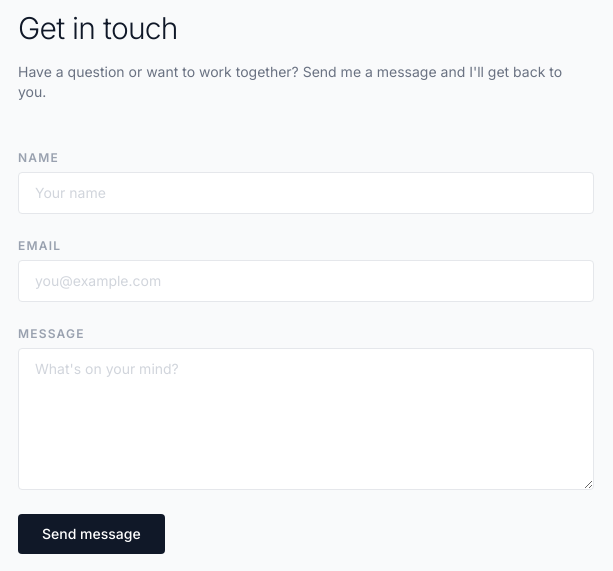
Test: Contact component › should display success confirmation when form is submitted successfully
The image size is (613, 571).
Type "Alice" into the field labelled "Name" at x=306, y=193, box [18,172,594,214]
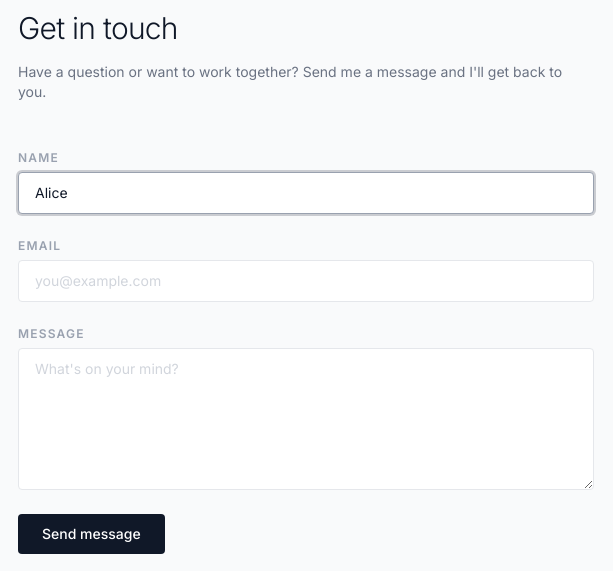
Type "alice@example.com" into the field labelled "Email" at x=306, y=281, box [18,260,594,302]
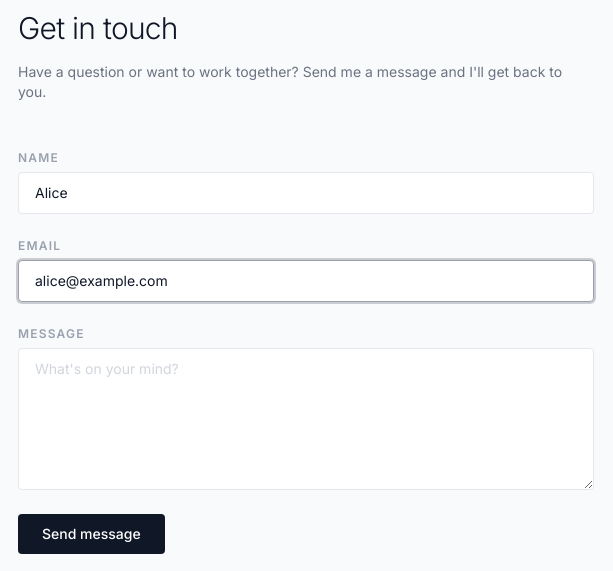
Type "Testing contact submission." into the text box labelled "Message" at x=306, y=419, box [18,348,594,490]
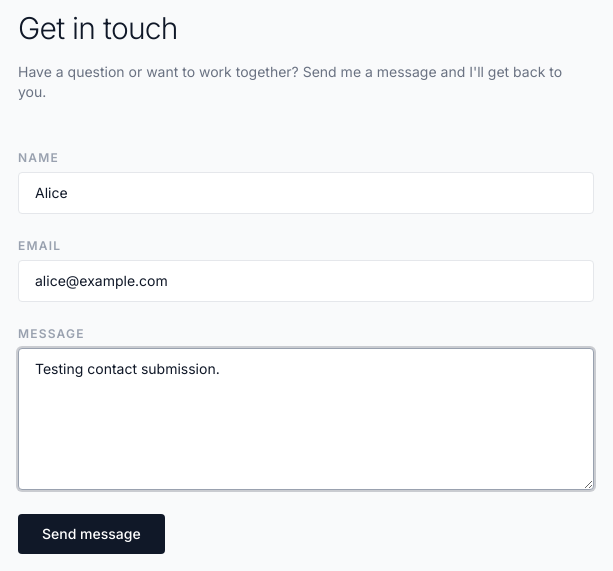
Click the button "Send message" at x=91, y=534, box [18,514,165,554]
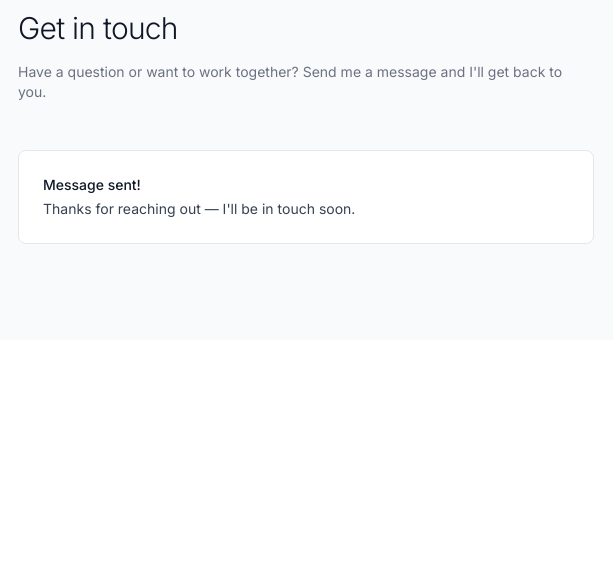
Now the text "Message sent!" is shown, box [43,176,141,193]
Now the text "Thanks for reaching out — I'll be in touch soon." is shown, box [43,200,355,217]
